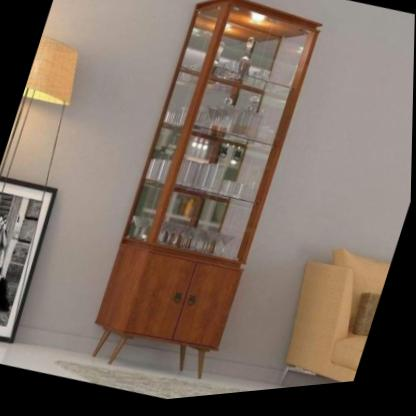Cupboard: (82, 0, 327, 398)
